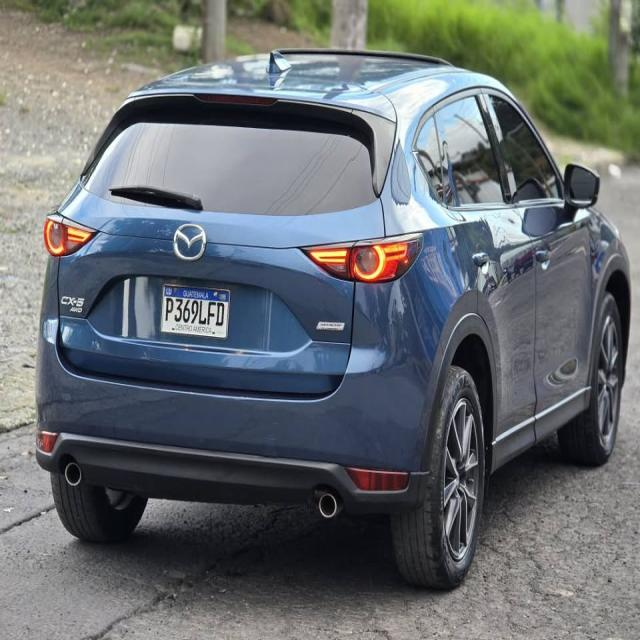Placas: (159, 282, 231, 340)
